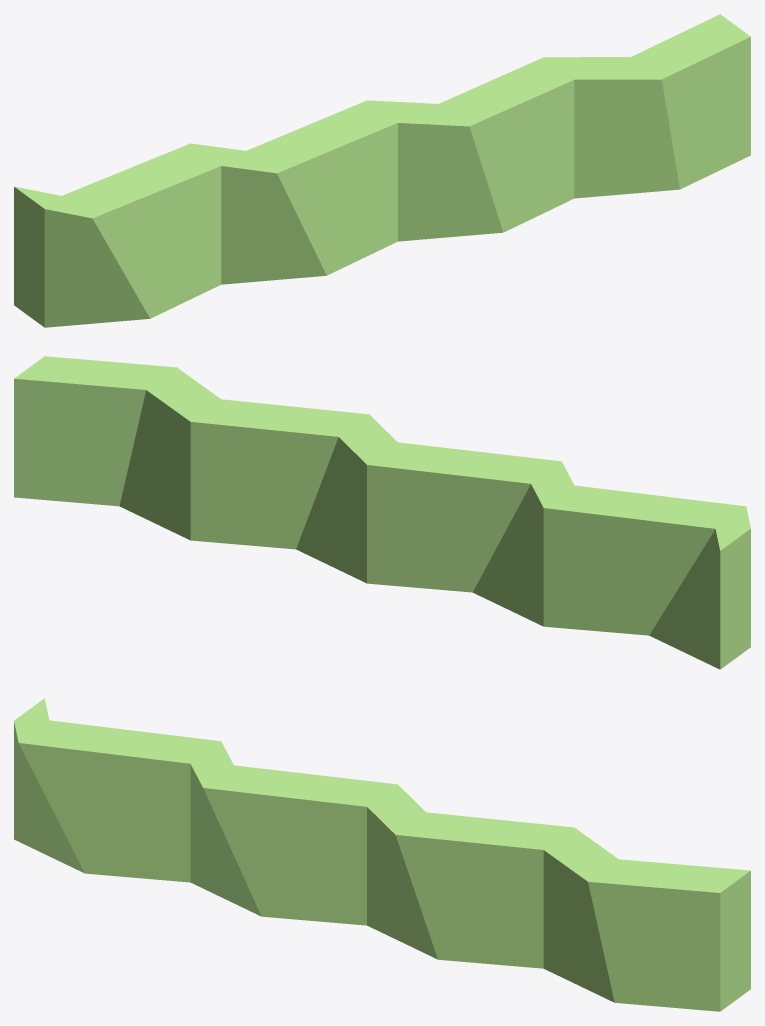
File: cabbage.fbx
3 renders of one model, top to bottom at view 1: azimuth 30°, elevation 25°; view 2: azimuth 150°, elevation 25°; view 3: azimuth 330°, elevation 25°, orthographic.
Parts seen in each view (by area): view 1: Cube; view 2: Cube; view 3: Cube.
Boxes of the visible parts, bbox=[...] form: Cube: bbox=[14, 14, 750, 327]; Cube: bbox=[14, 356, 750, 669]; Cube: bbox=[14, 698, 750, 1011].
Bounding box in the file's own units: 200 × 32.13 × 25.66.
